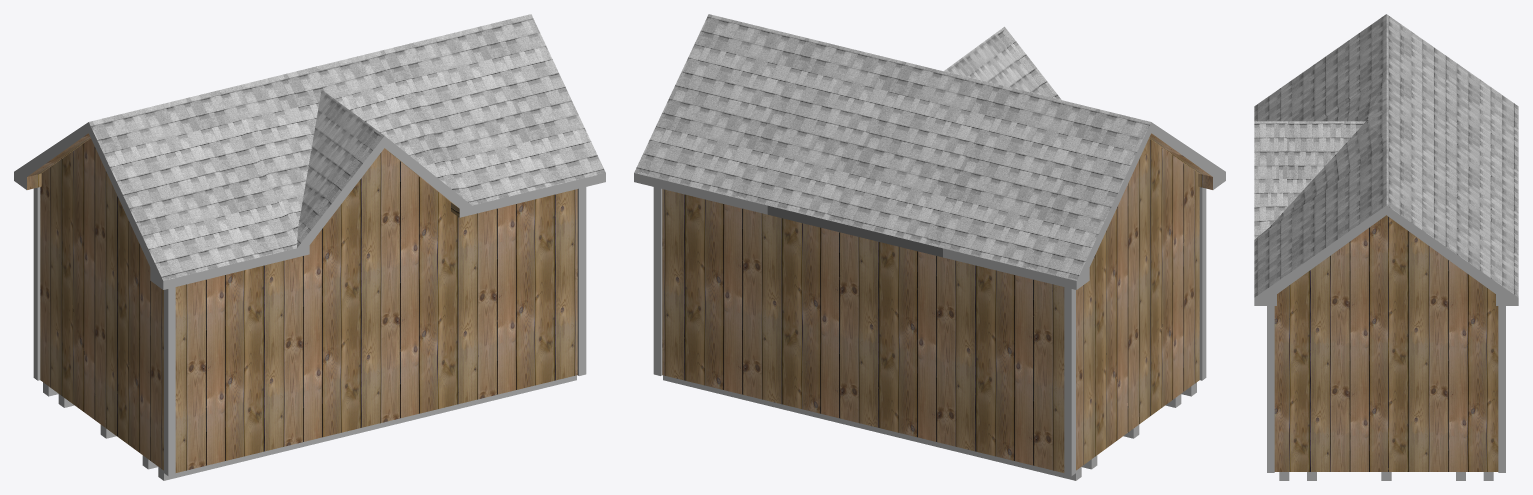
Rendered from Victorian Shed_8x14.obj.
3 renders of one model, left to right at view 1: azimuth 30°, elevation 25°; view 2: azimuth 150°, elevation 25°; view 3: azimuth 270°, elevation 25°, orthographic. The views are drawn at different scales.
Parts seen in each view (by area): view 1: Shed, Roof, Sides, Trim, Floor; view 2: Shed, Roof, Sides, Trim, Floor; view 3: Roof, Shed, Sides, Trim, Floor.
Part boxes in pixels (x1,y1,x2,y2): Shed: (27, 133, 577, 472); Roof: (89, 14, 605, 280); Sides: (14, 122, 605, 289); Trim: (33, 187, 586, 476); Floor: (43, 375, 576, 480); Shed: (662, 133, 1212, 472); Roof: (634, 14, 1150, 280); Sides: (634, 122, 1225, 289); Trim: (653, 187, 1206, 476); Floor: (663, 375, 1196, 480); Roof: (1254, 14, 1518, 297); Shed: (1274, 215, 1498, 471); Sides: (1254, 205, 1518, 305); Trim: (1267, 306, 1505, 472); Floor: (1279, 472, 1493, 480).
Bounding box in the file's own units: 4.57 × 3.14 × 2.67.
